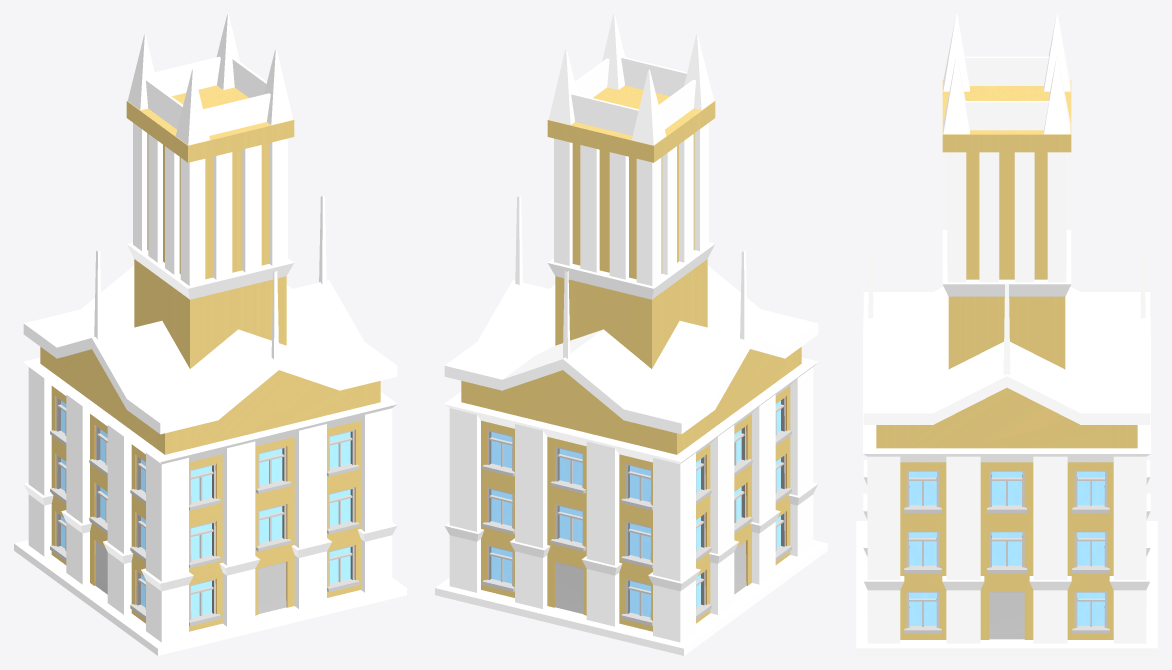
File: art.003.glb
3 renders of one model, left to right at view 1: azimuth 30°, elevation 25°; view 2: azimuth 150°, elevation 25°; view 3: azimuth 270°, elevation 25°, orthographic. The views are drawn at different scales.
Parts seen in each view (by area): view 1: art.003(Clone); view 2: art.003(Clone); view 3: art.003(Clone).
Part boxes in pixels (left/top/right/bottom): art.003(Clone): left=14, top=14, right=406, bottom=655; art.003(Clone): left=435, top=14, right=827, bottom=655; art.003(Clone): left=856, top=14, right=1157, bottom=655.
Bounding box in the file's own units: 11.44 × 23.3 × 11.44.
Materials: 1 (1 with a texture image).
